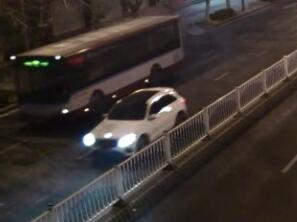bus: (4, 14, 189, 117)
car: (81, 87, 188, 160)
